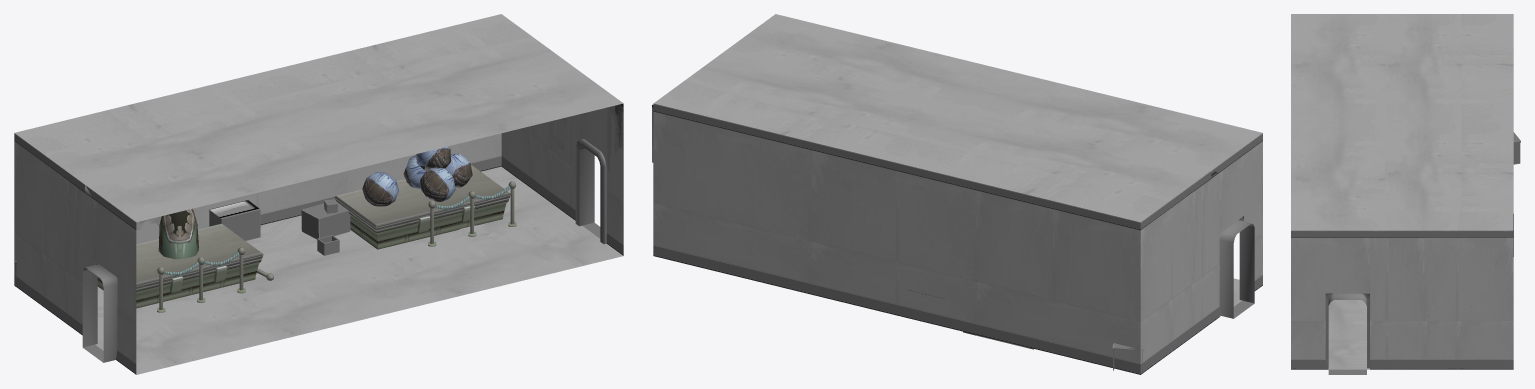
Rendered from MSH_QuestRobCo_L1_R2_optimized.fbx.
The picture shows the model from 3 angles, left to right: view 1: azimuth 30°, elevation 25°; view 2: azimuth 150°, elevation 25°; view 3: azimuth 270°, elevation 25°; orthographic projection. The views are drawn at different scales.
Visible parts, largest first — view 1: lightmap2, lightmap10, lightmap3, lightmap0, MSH_QuestRobCo_L1_R2_Dirt_01_NB; view 2: lightmap2, lightmap10, lightmap0; view 3: lightmap10, lightmap2, lightmap0, lightmap3.
Boxes of the visible parts, <box> form: lightmap2: <box>14,103,623,374</box>; lightmap10: <box>14,14,623,222</box>; lightmap3: <box>14,146,516,312</box>; lightmap0: <box>82,118,606,362</box>; MSH_QuestRobCo_L1_R2_Dirt_01_NB: <box>93,103,623,265</box>; lightmap2: <box>653,103,1262,374</box>; lightmap10: <box>653,14,1262,222</box>; lightmap0: <box>1219,216,1254,318</box>; lightmap10: <box>1291,14,1513,230</box>; lightmap2: <box>1291,230,1513,369</box>; lightmap0: <box>1325,293,1369,374</box>; lightmap3: <box>1513,132,1520,256</box>.
Bounding box in the file's own units: 20.6 × 5.91 × 8.79.
3 materials, 3 textured.
